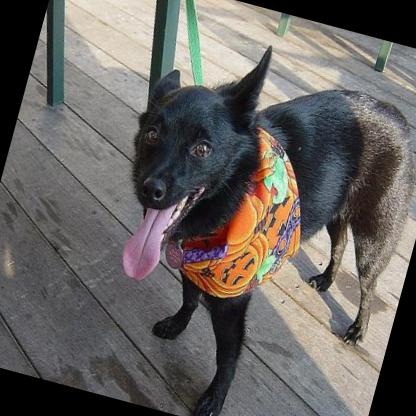schipperke: (65, 14, 416, 416)
